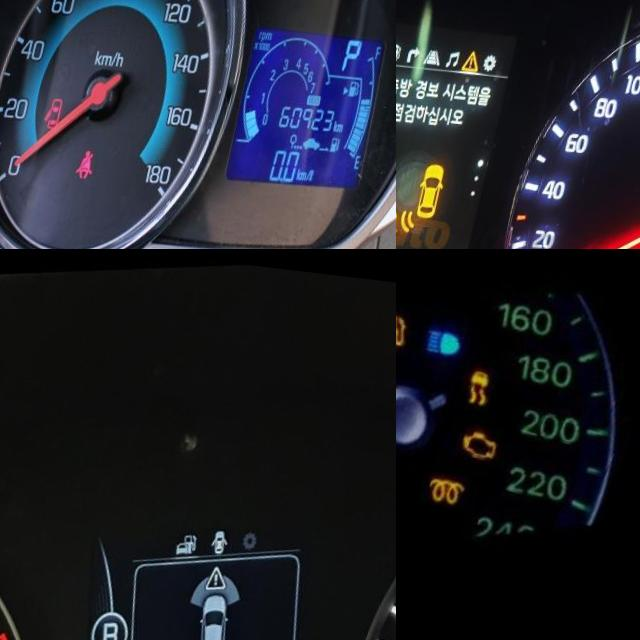Central Warning lamp: (468, 39, 489, 62)
Doors: (59, 92, 79, 125)
Low fuel level: (396, 285, 433, 347)
